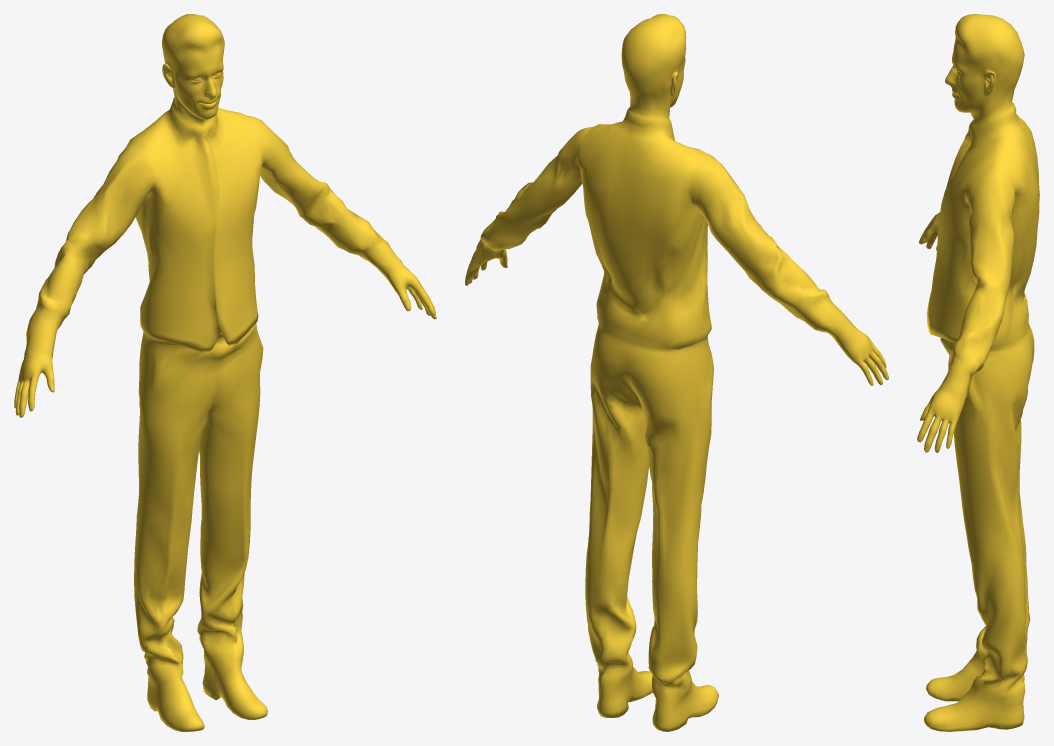
The model's file is pedestrian.fbx.
The picture shows the model from 3 angles, left to right: view 1: azimuth 30°, elevation 25°; view 2: azimuth 150°, elevation 25°; view 3: azimuth 270°, elevation 25°; orthographic projection.
Parts seen in each view (by area): view 1: pedestrian; view 2: pedestrian; view 3: pedestrian.
Part boxes in pixels (x1,y1,x2,y2): pedestrian: (14, 14, 436, 731); pedestrian: (465, 14, 888, 731); pedestrian: (917, 14, 1039, 731).
Bounding box in the file's own units: 121 × 193 × 31.02.
